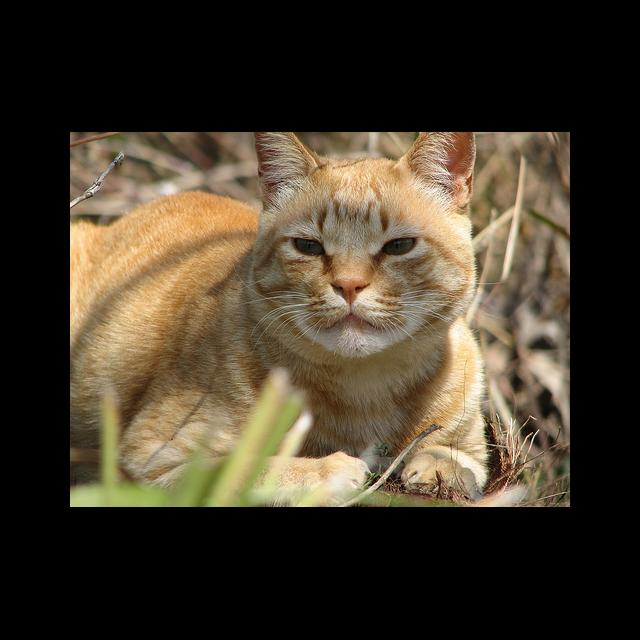animals: (262, 132, 466, 302)
